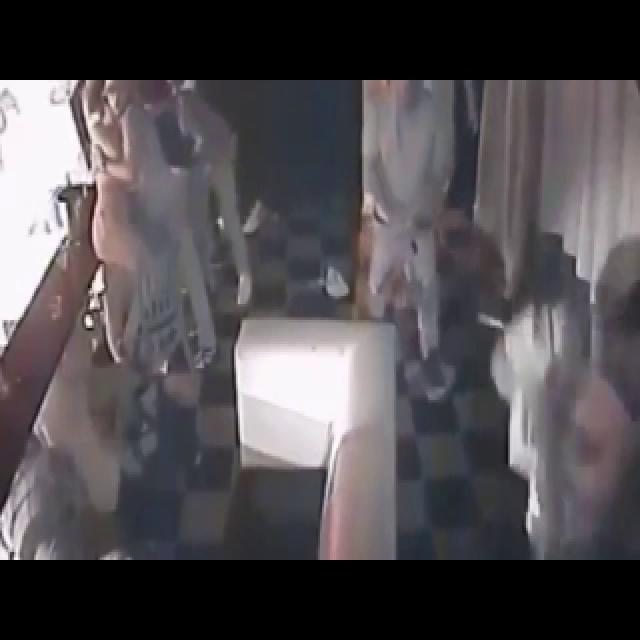shooting: (411, 195, 640, 564)
